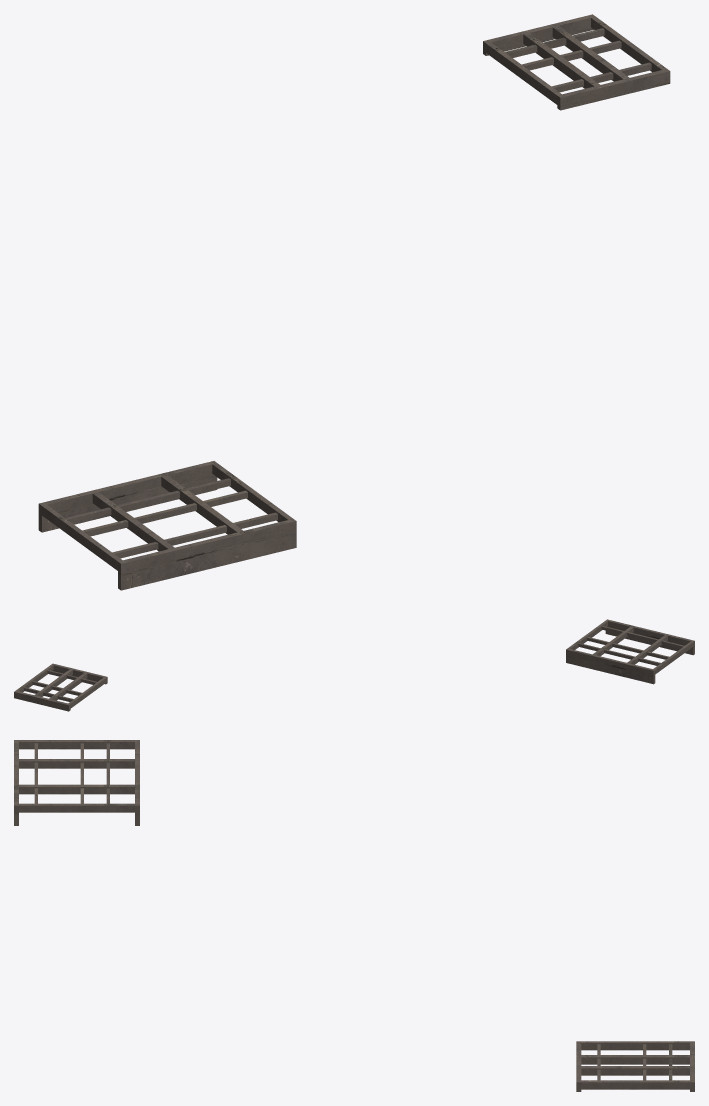
File: SM_Republic_04_02.fbx
The picture shows the model from 3 angles, top to bottom: view 1: azimuth 30°, elevation 25°; view 2: azimuth 150°, elevation 25°; view 3: azimuth 270°, elevation 25°; orthographic projection. The views are drawn at different scales.
Parts seen in each view (by area): view 1: SM_Republic_04_02; view 2: SM_Republic_04_02; view 3: SM_Republic_04_02.
Boxes of the visible parts, x1,y1,x2,y2 form: SM_Republic_04_02: [38, 14, 670, 590]; SM_Republic_04_02: [14, 619, 694, 711]; SM_Republic_04_02: [14, 740, 694, 1091].
Bounding box in the file's own units: 1879 × 52.39 × 1580.
